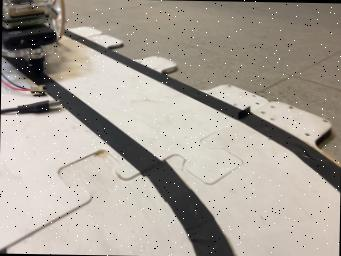street: (0, 36, 340, 256), (0, 36, 340, 256), (0, 36, 340, 256), (0, 36, 340, 256), (0, 36, 340, 256), (0, 36, 340, 256)
